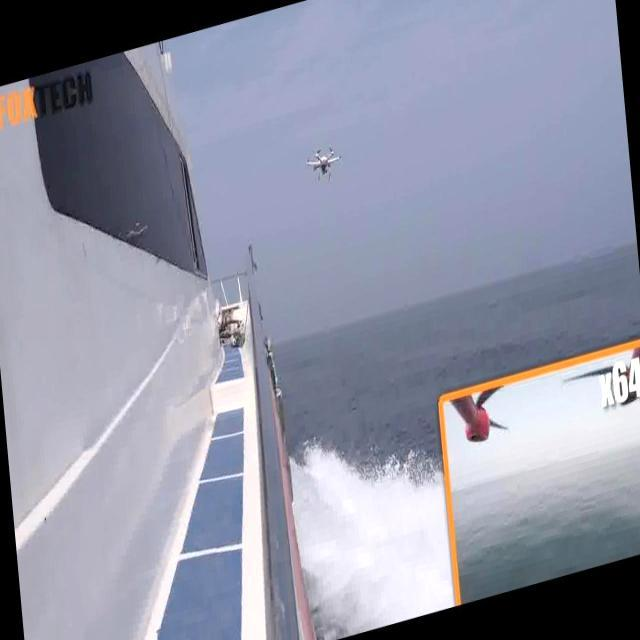drone: (298, 132, 344, 191)
